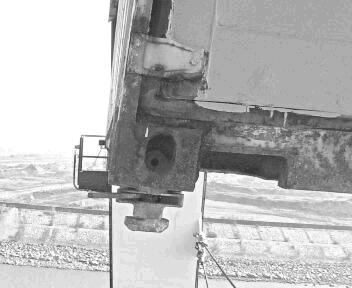twist_lock_1: (103, 180, 189, 236)
